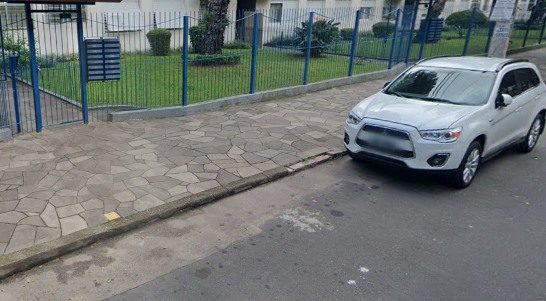vag78: (1, 108, 333, 301)
